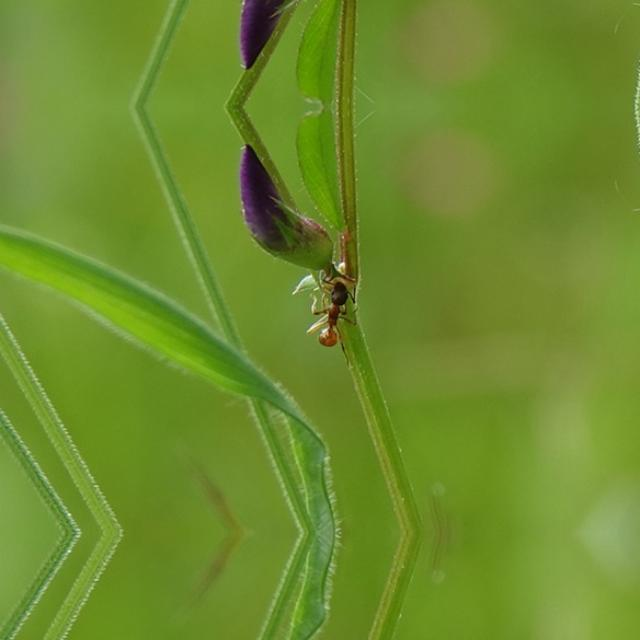Myrmica: (310, 258, 358, 356)
